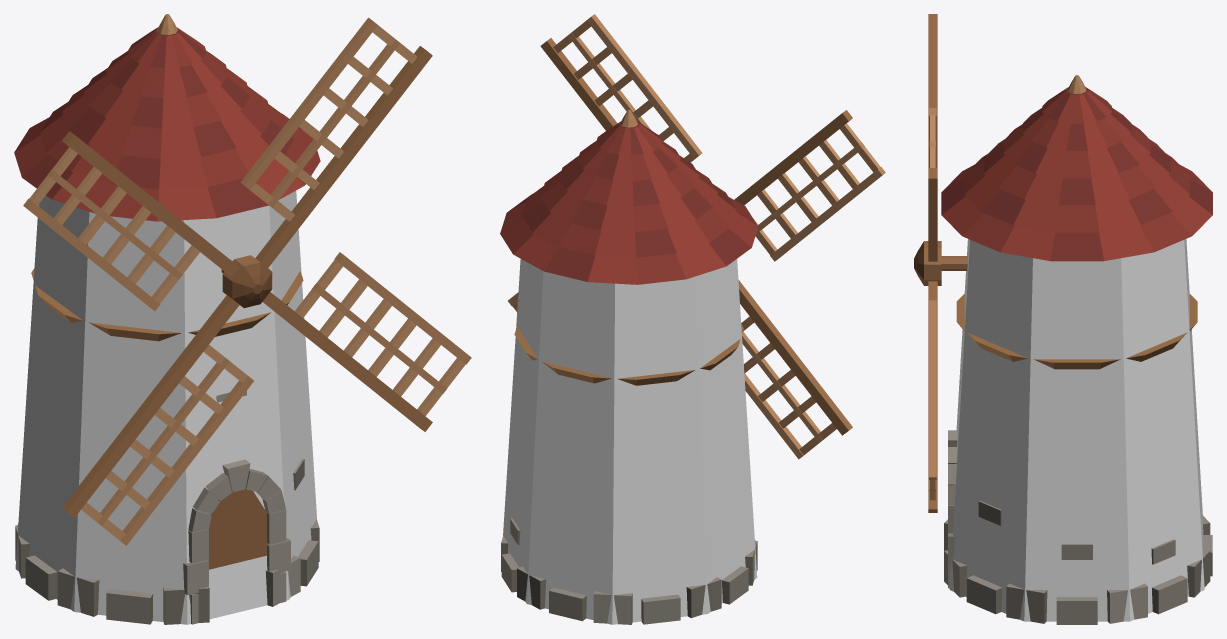
File: FMS_Windmill.fbx
3 views of the same model, side by side, from view 1: azimuth 30°, elevation 25°; view 2: azimuth 150°, elevation 25°; view 3: azimuth 270°, elevation 25° (orthographic). The views are drawn at different scales.
Parts seen in each view (by area): view 1: FMS_Windmill_Col, FMS_Windmill_LOD0, FMS_Windmill_Sails; view 2: FMS_Windmill_Col, FMS_Windmill_LOD0, FMS_Windmill_Sails; view 3: FMS_Windmill_Col, FMS_Windmill_LOD0, FMS_Windmill_Sails.
Part boxes in pixels (x1,y1,x2,y2): FMS_Windmill_Col: (15,190,316,624); FMS_Windmill_LOD0: (14,14,320,624); FMS_Windmill_Sails: (23,17,471,545); FMS_Windmill_Col: (503,259,757,624); FMS_Windmill_LOD0: (500,110,758,624); FMS_Windmill_Sails: (508,14,885,459); FMS_Windmill_Col: (949,239,1204,621); FMS_Windmill_LOD0: (941,75,1212,624); FMS_Windmill_Sails: (914,14,941,512).
Size of what is drawn, in the model's own units: 7.38 by 9.04 by 4.76.
Materials: 1 (1 with a texture image).
